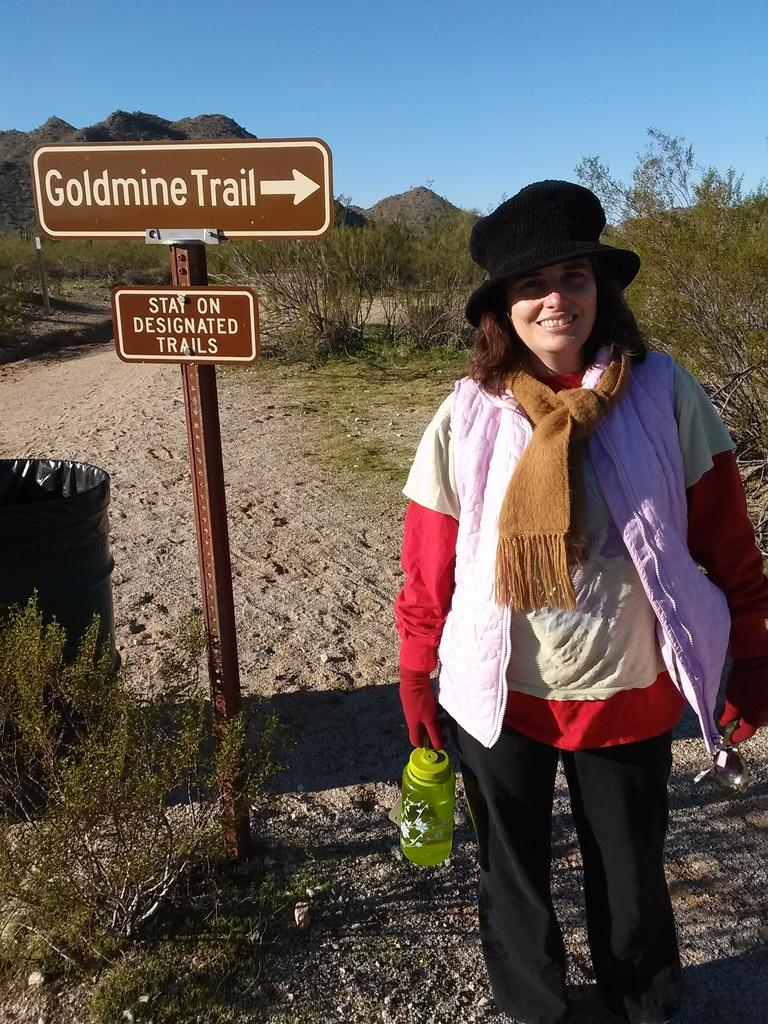Hat: (466, 178, 646, 318)
